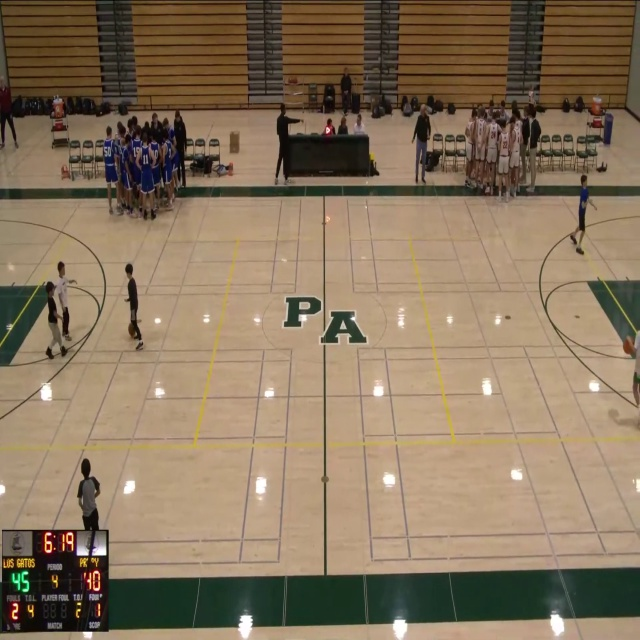Basketball: (623, 337, 635, 356)
